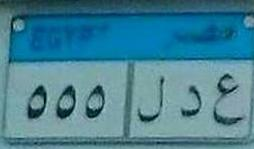5: (27, 78, 50, 122), (84, 84, 108, 118), (56, 85, 79, 117)
ain: (211, 70, 244, 127)
daal: (134, 75, 169, 123), (178, 84, 204, 117)
